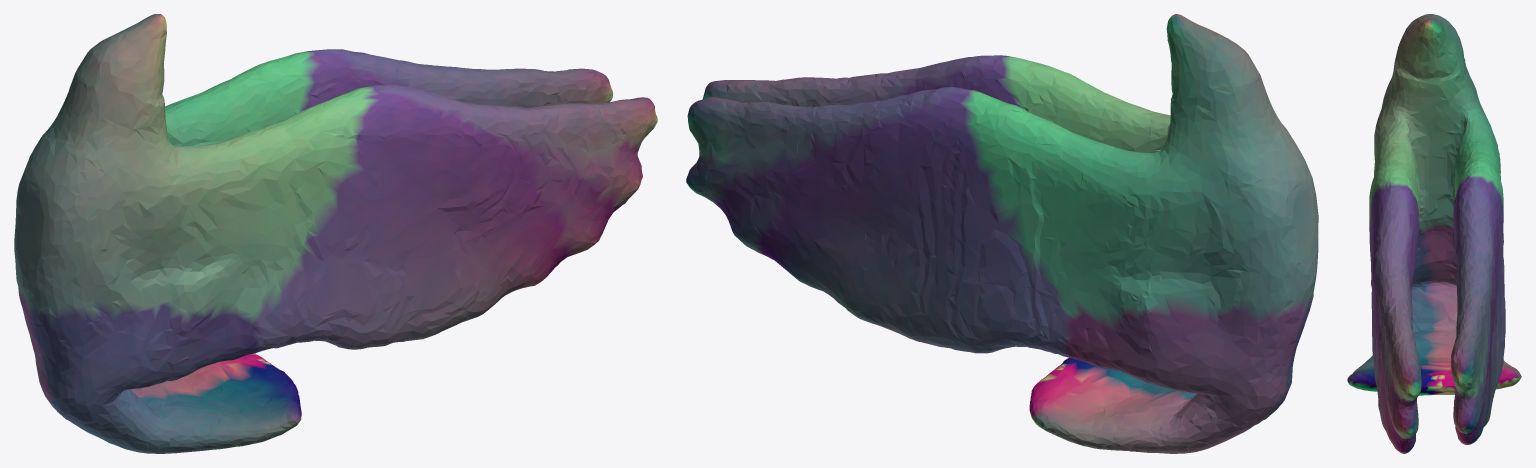
The model's file is bird1-14.off.obj.
3 renders of one model, left to right at view 1: azimuth 30°, elevation 25°; view 2: azimuth 150°, elevation 25°; view 3: azimuth 270°, elevation 25°, orthographic. The views are drawn at different scales.
Bounding box in the file's own units: 1.57 × 1.03 × 0.4626.
